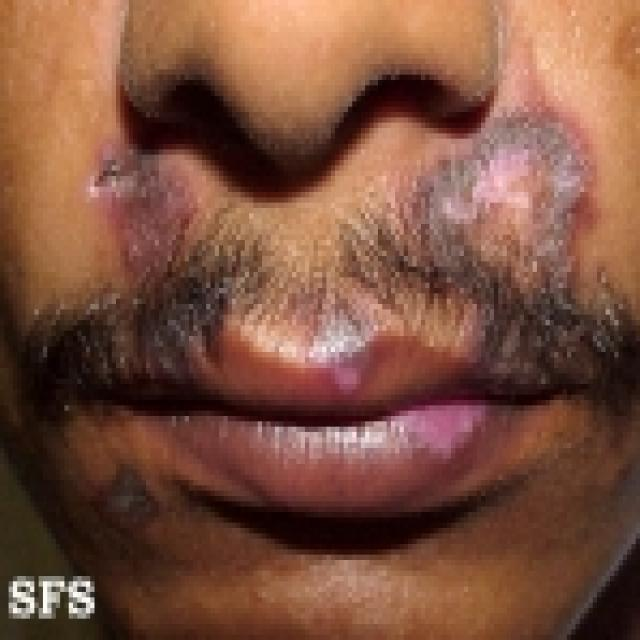lupus: (82, 122, 578, 272)
